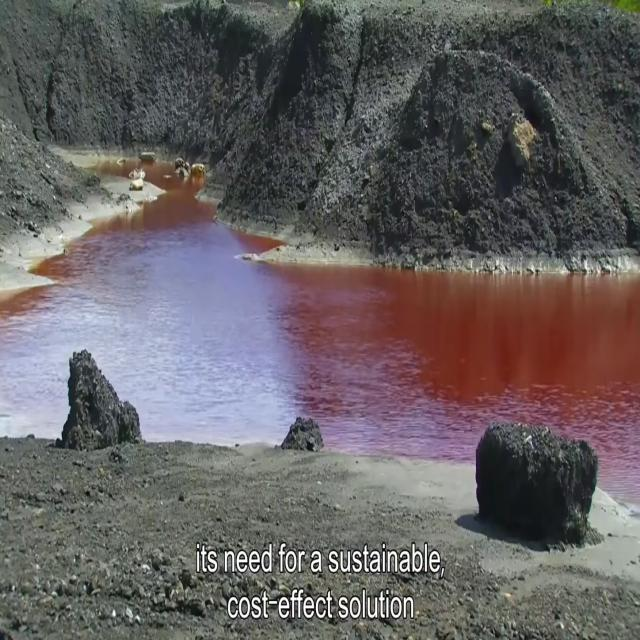yellow_boy: (0, 162, 640, 505), (99, 162, 134, 175)
